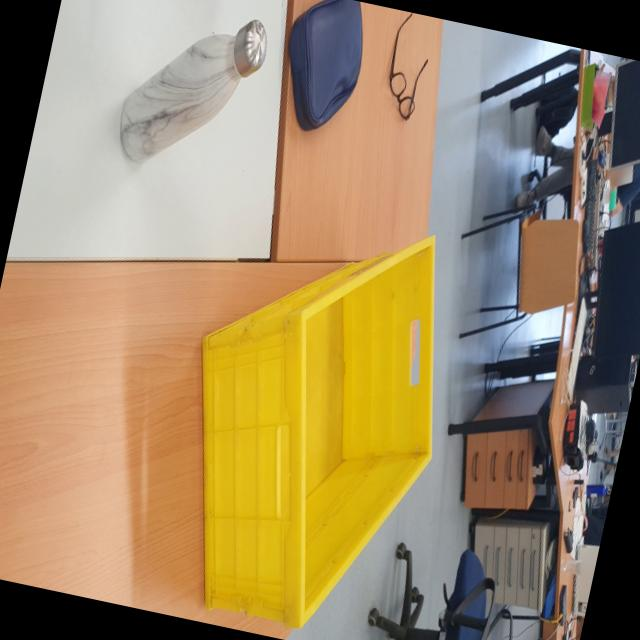box: (143, 172, 484, 640)
